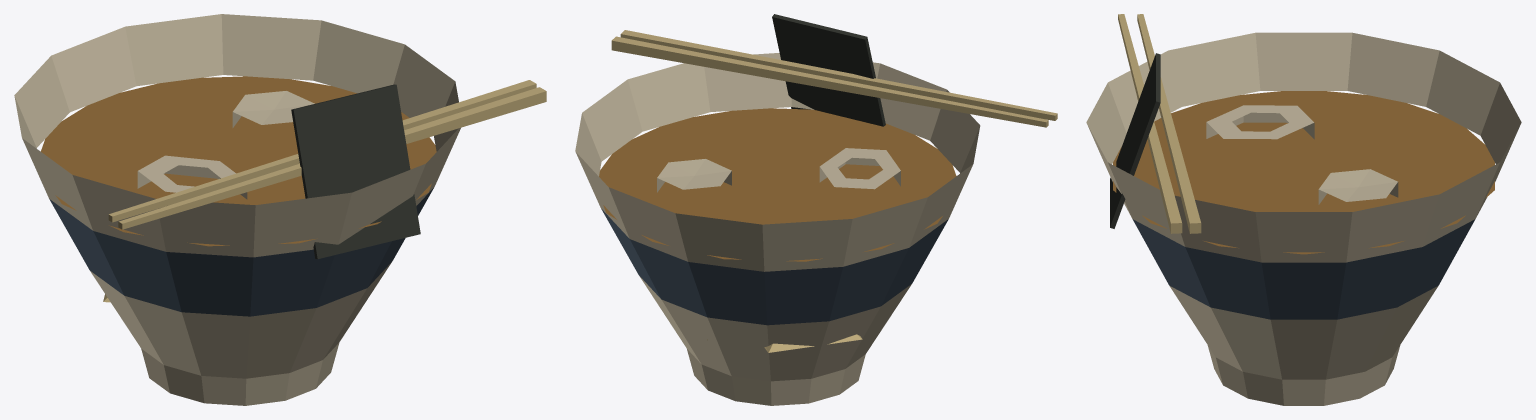
File: singing_bowl.glb
The picture shows the model from 3 angles, left to right: view 1: azimuth 30°, elevation 25°; view 2: azimuth 150°, elevation 25°; view 3: azimuth 270°, elevation 25°; orthographic projection. The views are drawn at different scales.
Visible parts, largest first — view 1: 777-ramen-noodle-bowl; view 2: 777-ramen-noodle-bowl; view 3: 777-ramen-noodle-bowl.
Boxes of the visible parts, x1,y1,x2,y2 form: 777-ramen-noodle-bowl: (14,14,546,405); 777-ramen-noodle-bowl: (575,14,1057,405); 777-ramen-noodle-bowl: (1086,14,1521,405).
Size of the model in its own units: 0.1842 by 0.1239 by 0.16.
